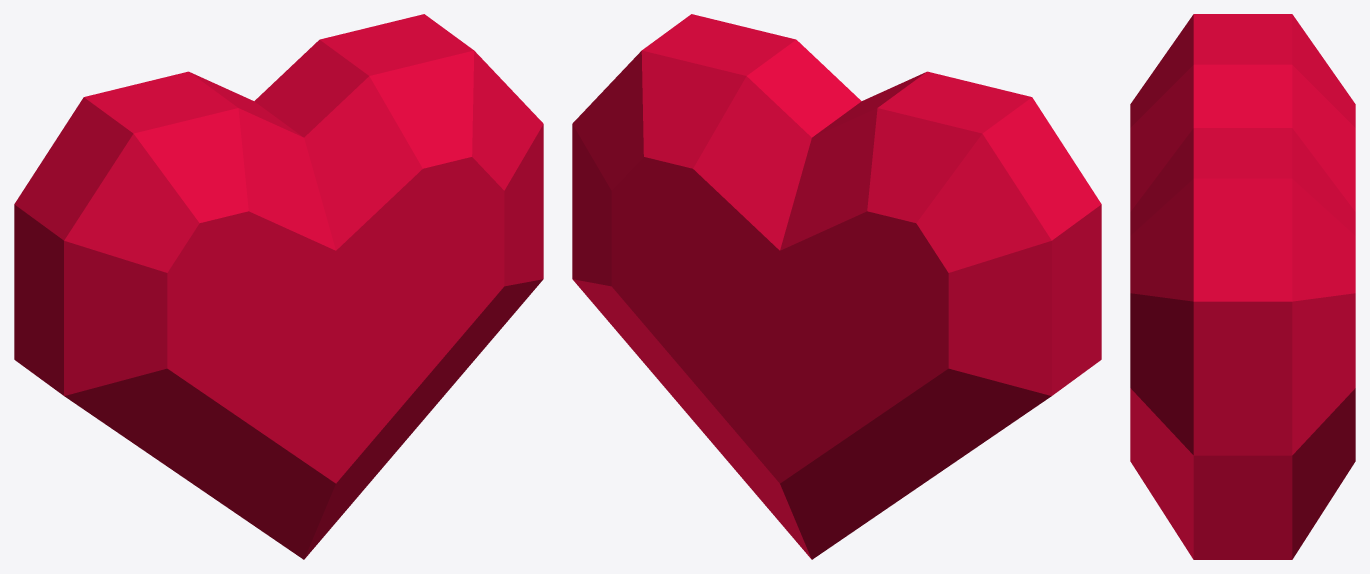
The model's file is Heart.fbx.
3 renders of one model, left to right at view 1: azimuth 30°, elevation 25°; view 2: azimuth 150°, elevation 25°; view 3: azimuth 270°, elevation 25°, orthographic.
Parts seen in each view (by area): view 1: Plane.001; view 2: Plane.001; view 3: Plane.001.
Boxes of the visible parts, x1=… form: Plane.001: x1=14, y1=14, x2=543, y2=559; Plane.001: x1=572, y1=14, x2=1101, y2=559; Plane.001: x1=1130, y1=14, x2=1355, y2=559.
Size of the model in its own units: 141 by 132 by 58.12.
